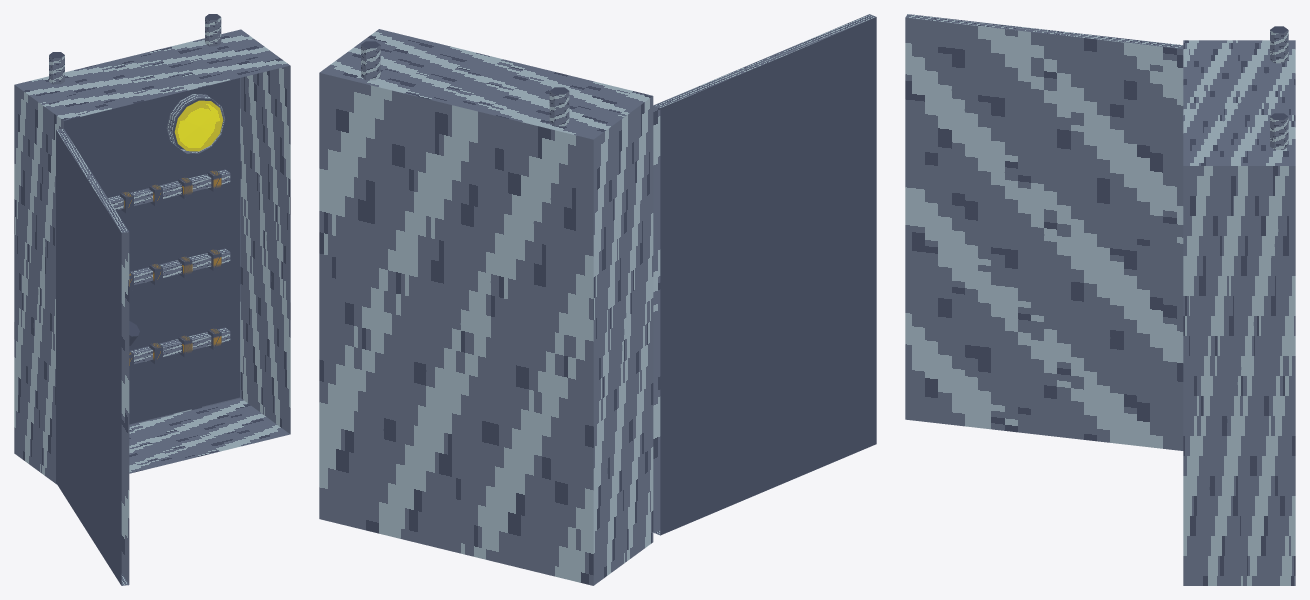
File: IND-01_Caja_de_energia.gltf
The picture shows the model from 3 angles, left to right: view 1: azimuth 30°, elevation 25°; view 2: azimuth 150°, elevation 25°; view 3: azimuth 270°, elevation 25°; orthographic projection. The views are drawn at different scales.
Parts seen in each view (by area): view 1: IND-01_Caja_de_energia-convcol; view 2: IND-01_Caja_de_energia-convcol; view 3: IND-01_Caja_de_energia-convcol.
Part boxes in pixels (x1,y1,x2,y2): IND-01_Caja_de_energia-convcol: (14,14,290,585); IND-01_Caja_de_energia-convcol: (319,14,876,585); IND-01_Caja_de_energia-convcol: (905,14,1295,585).
Bounding box in the file's own units: 1.15 × 1.5 × 1.18.
1 material, 1 textured.
